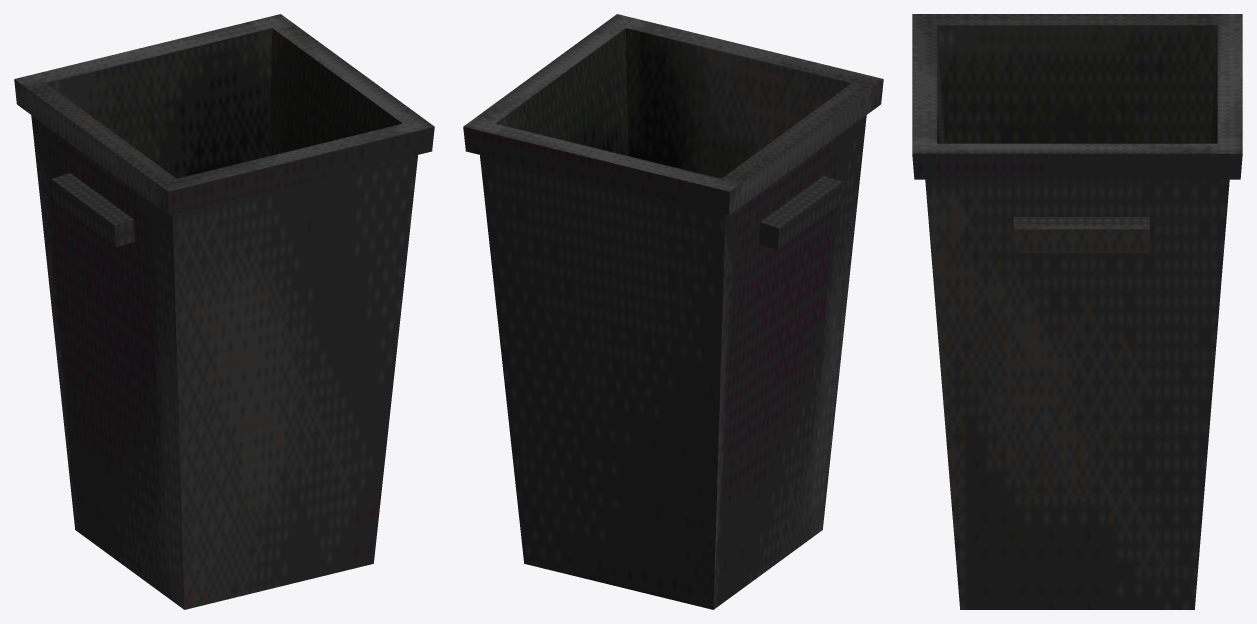
Rendered from trashcan.fbx.
3 renders of one model, left to right at view 1: azimuth 30°, elevation 25°; view 2: azimuth 150°, elevation 25°; view 3: azimuth 270°, elevation 25°, orthographic. The views are drawn at different scales.
Parts seen in each view (by area): view 1: trash; view 2: trash; view 3: trash.
Boxes of the visible parts, x1=… form: trash: x1=14, y1=14, x2=434, y2=609; trash: x1=463, y1=14, x2=883, y2=609; trash: x1=912, y1=14, x2=1242, y2=609.
Size of the model in its own units: 499 by 755 by 474.
